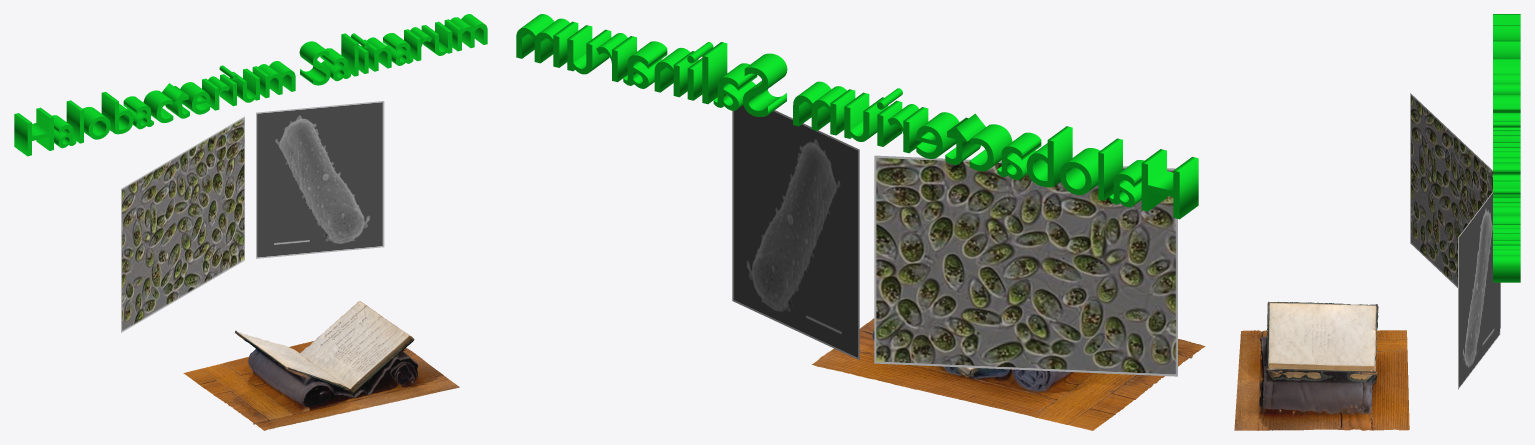
The model's file is salinarum.glb.
The picture shows the model from 3 angles, left to right: view 1: azimuth 30°, elevation 25°; view 2: azimuth 150°, elevation 25°; view 3: azimuth 270°, elevation 25°; orthographic projection. The views are drawn at different scales.
Parts seen in each view (by area): view 1: halobacterium_close_up, halobacterium_overview, Object_2, Text; view 2: halobacterium_overview, Text, halobacterium_close_up, Object_2; view 3: Object_2, halobacterium_overview, Text, halobacterium_close_up.
Part boxes in pixels (bbox=[...]): halobacterium_close_up: bbox=[256, 101, 384, 258]; halobacterium_overview: bbox=[121, 116, 244, 332]; Object_2: bbox=[183, 301, 459, 430]; Text: bbox=[14, 14, 487, 156]; halobacterium_overview: bbox=[874, 155, 1177, 376]; Text: bbox=[516, 14, 1198, 219]; halobacterium_close_up: bbox=[732, 105, 859, 360]; Object_2: bbox=[811, 318, 1205, 430]; Object_2: bbox=[1234, 301, 1409, 430]; halobacterium_overview: bbox=[1410, 93, 1500, 328]; Text: bbox=[1493, 14, 1520, 282]; halobacterium_close_up: bbox=[1458, 192, 1500, 389].
Bounding box in the file's own units: 5.56 × 2.88 × 2.87.
4 materials, 3 textured.
